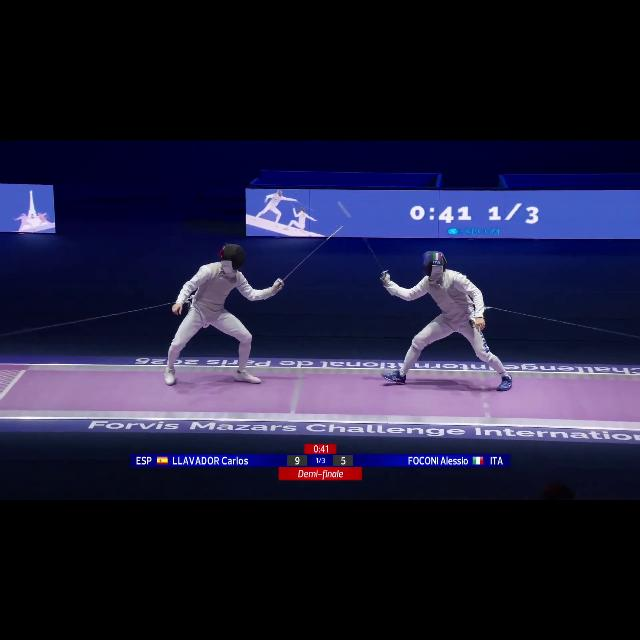blade: (335, 194, 391, 280), (272, 223, 342, 284)
